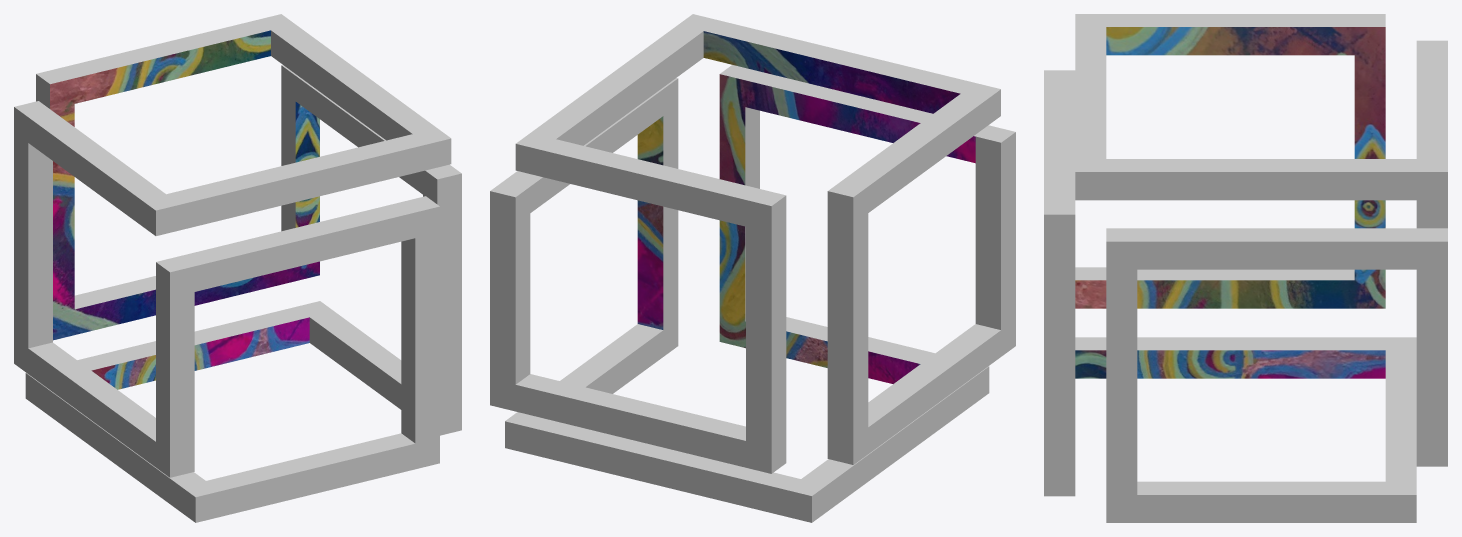
The model's file is Demon.fbx.
3 renders of one model, left to right at view 1: azimuth 30°, elevation 25°; view 2: azimuth 150°, elevation 25°; view 3: azimuth 270°, elevation 25°, orthographic. The views are drawn at different scales.
Visible parts, largest first — view 1: Cube; view 2: Cube; view 3: Cube.
Boxes of the visible parts, box(x1,y1,x2,y2) form: Cube: box(14, 14, 461, 522); Cube: box(490, 14, 1015, 522); Cube: box(1044, 14, 1447, 522).
Size of the model in its own units: 0.65 by 0.6522 by 0.6.
2 materials, 1 textured.
